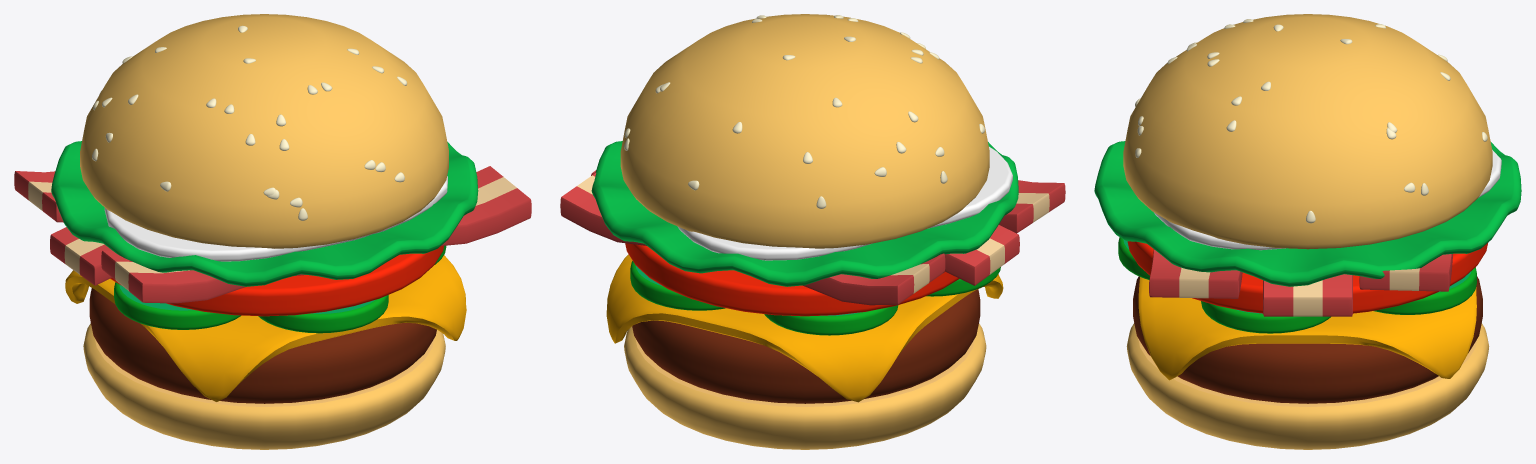
File: burger.glb
The picture shows the model from 3 angles, left to right: view 1: azimuth 30°, elevation 25°; view 2: azimuth 150°, elevation 25°; view 3: azimuth 270°, elevation 25°; orthographic projection.
Parts seen in each view (by area): view 1: top_bun_1, Bottom_bun, beef, Lettuce, Cheese, tomato, Bacon_2, Egg, cucumber_2, cucumber_3, Bacon, Bottom_bun_Mat_0.001 (+1 smaller); view 2: top_bun_1, Bottom_bun, beef, Lettuce, Cheese, tomato, Bacon_1, Egg, Bacon, cucumber_1, Bacon_2, Bottom_bun_Mat_0.001 (+2 smaller); view 3: top_bun_1, Lettuce, Bottom_bun, Cheese, beef, tomato, Bacon, Bacon_2, Bacon_1, cucumber_4, cucumber, Bottom_bun_Mat_0.001 (+2 smaller).
Part boxes in pixels (x1,y1,x2,y2): top_bun_1: (80,14,448,248); Bottom_bun: (83,323,445,449); beef: (89,288,436,403); Lettuce: (51,141,478,286); Cheese: (65,255,466,401); tomato: (110,246,443,316); Bacon_2: (101,166,531,303); Egg: (104,176,447,261); cucumber_2: (114,282,241,329); cucumber_3: (258,295,388,333); Bacon: (50,227,111,285); Bottom_bun_Mat_0.001: (95,339,434,406); top_bun_1: (620,14,989,248); Bottom_bun: (624,323,986,449); beef: (632,289,980,403); Lettuce: (591,141,1018,286); Cheese: (606,254,1003,402); tomato: (625,243,959,316); Bacon_1: (560,173,945,305); Egg: (677,146,1012,260); Bacon: (591,170,1019,285); cucumber_1: (764,305,898,335); Bacon_2: (999,180,1065,233); Bottom_bun_Mat_0.001: (635,338,974,406); top_bun_1: (1123,14,1492,249); Lettuce: (1094,141,1521,286); Bottom_bun: (1126,323,1489,449); Cheese: (1138,267,1476,380); beef: (1133,276,1482,403); tomato: (1127,241,1487,313); Bacon: (1263,274,1352,316); Bacon_2: (1149,249,1242,298); Bacon_1: (1359,254,1452,291); cucumber_4: (1201,301,1330,333); cucumber: (1374,267,1476,314); Bottom_bun_Mat_0.001: (1138,338,1477,406).
Bounding box in the file's own units: 1.8 × 1.54 × 1.73.
